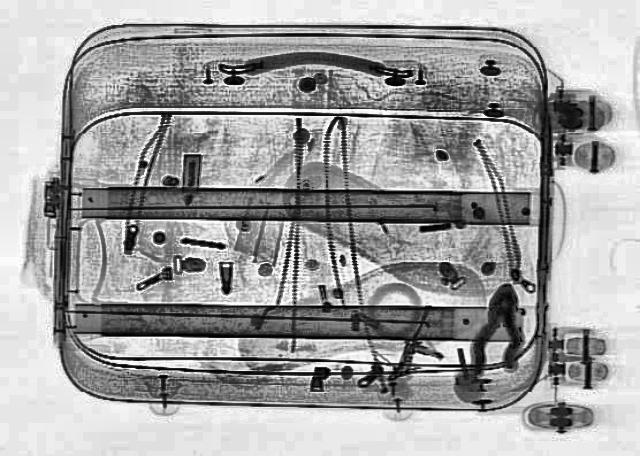Pliers: (466, 282, 530, 376)
